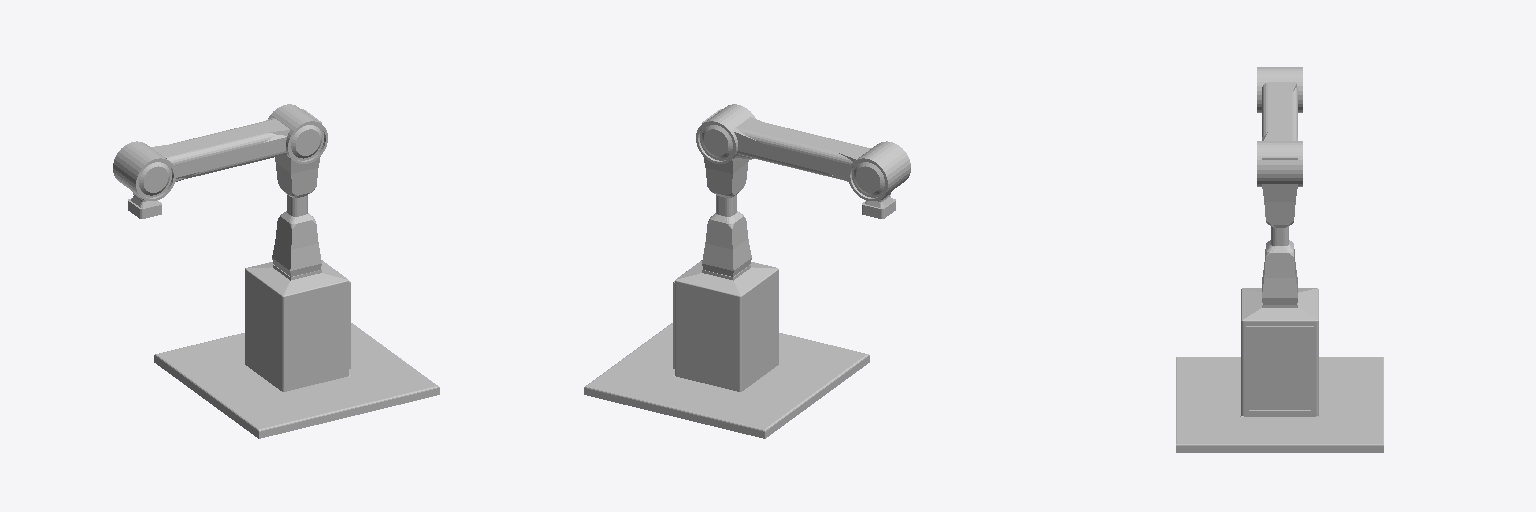
File: Dispenser.obj
3 views of the same model, side by side, from view 1: azimuth 30°, elevation 25°; view 2: azimuth 150°, elevation 25°; view 3: azimuth 270°, elevation 25° (orthographic).
Visible parts, largest first — view 1: Cylinder; view 2: Cylinder; view 3: Cylinder.
Part boxes in pixels (x1,y1,x2,y2): Cylinder: (113,104,439,438); Cylinder: (584,104,910,438); Cylinder: (1176,67,1383,452).
Size of the model in its own units: 13.11 by 12.64 by 9.01.